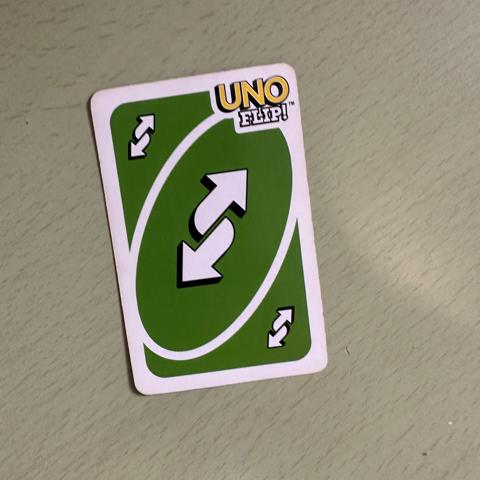reverse_red: (174, 167, 254, 289), (125, 112, 159, 160), (265, 306, 296, 351)
